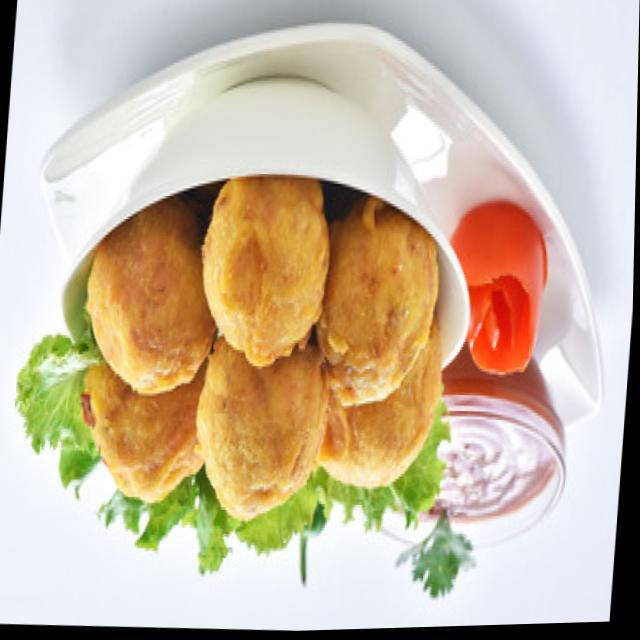BONDA: (59, 171, 449, 531)
